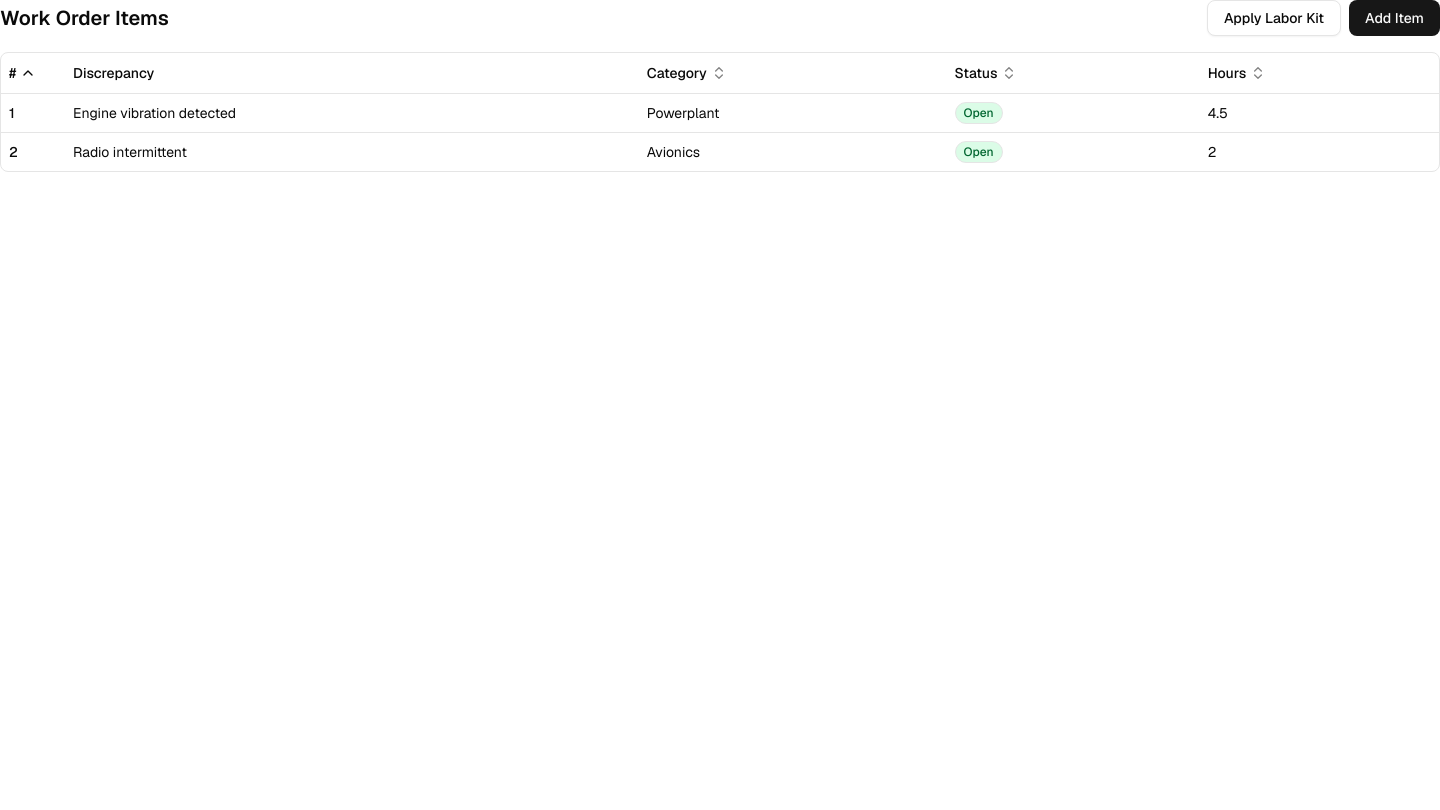
Test case: WorkOrderItemList › add item dialog › should create new item when form is submitted
Expected: the text "Engine vibration detected" is shown, [65, 93, 639, 132]
Click the button "Add Item" at x=1395, y=18, box [1349, 0, 1439, 36]
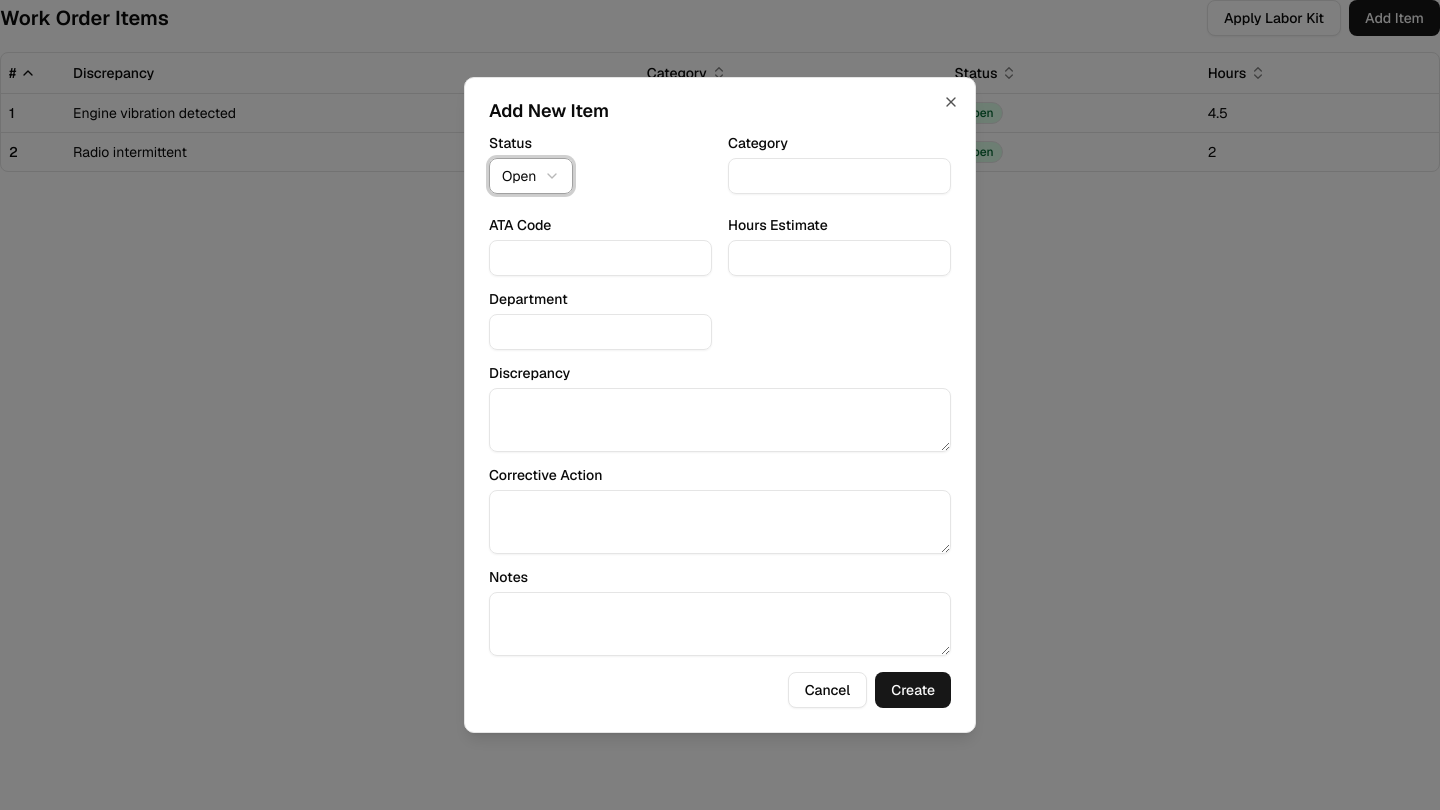
Now the text box labelled "Discrepancy" is shown
Type "New test discrepancy" into the text box labelled "Discrepancy" at x=720, y=420, box [489, 388, 951, 452]
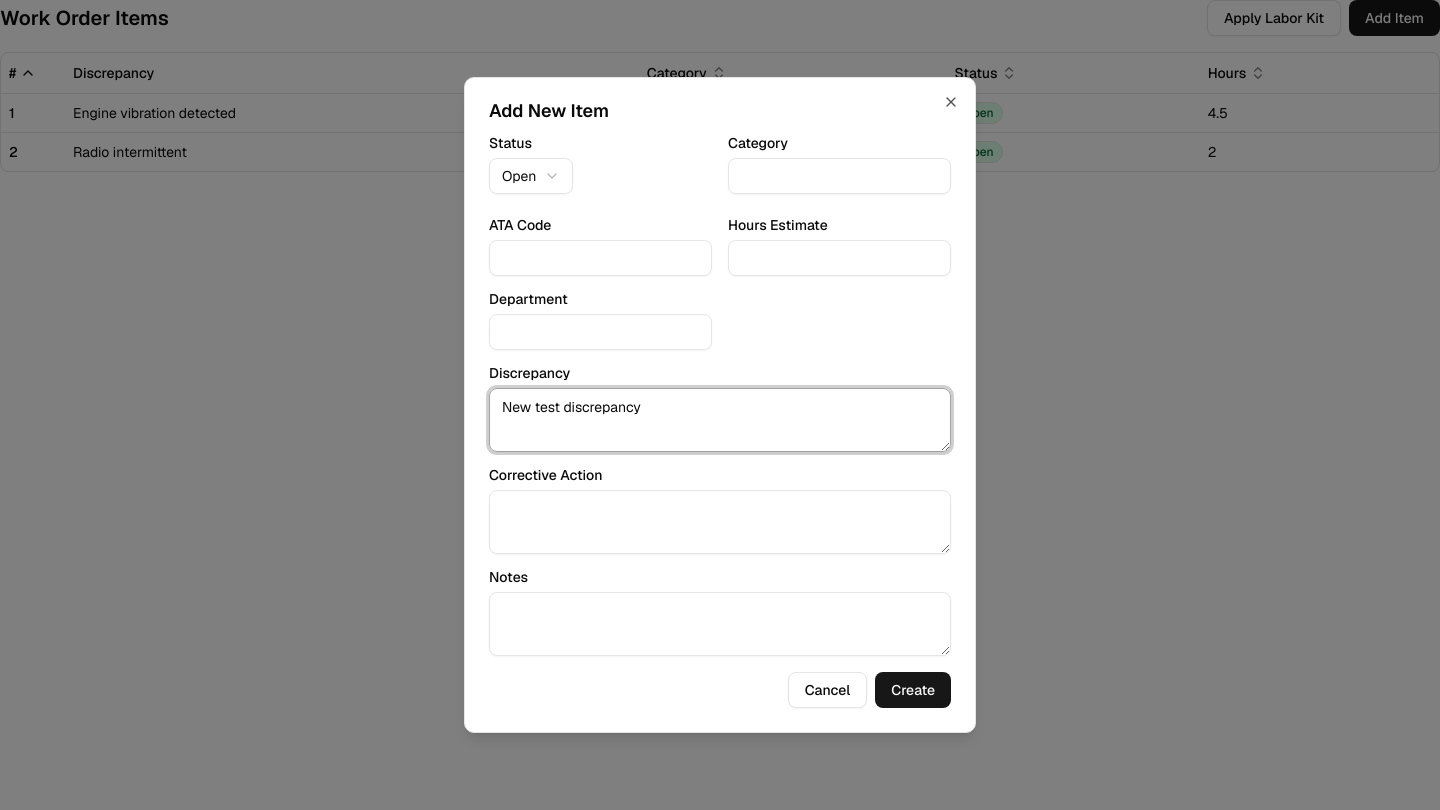
Click the button "Create" at x=913, y=690, box [875, 672, 951, 708]
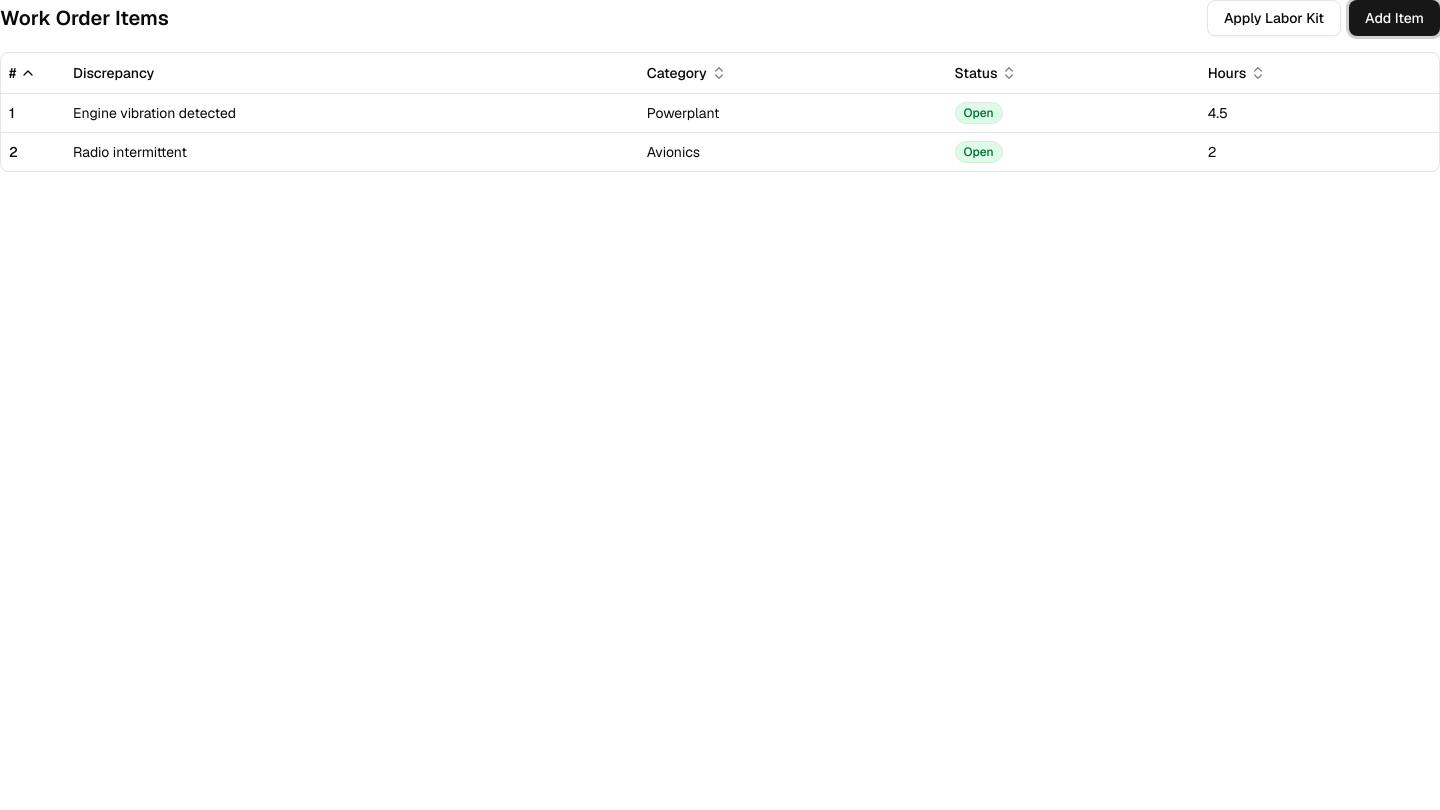
Now the heading "Add New Item" is gone
